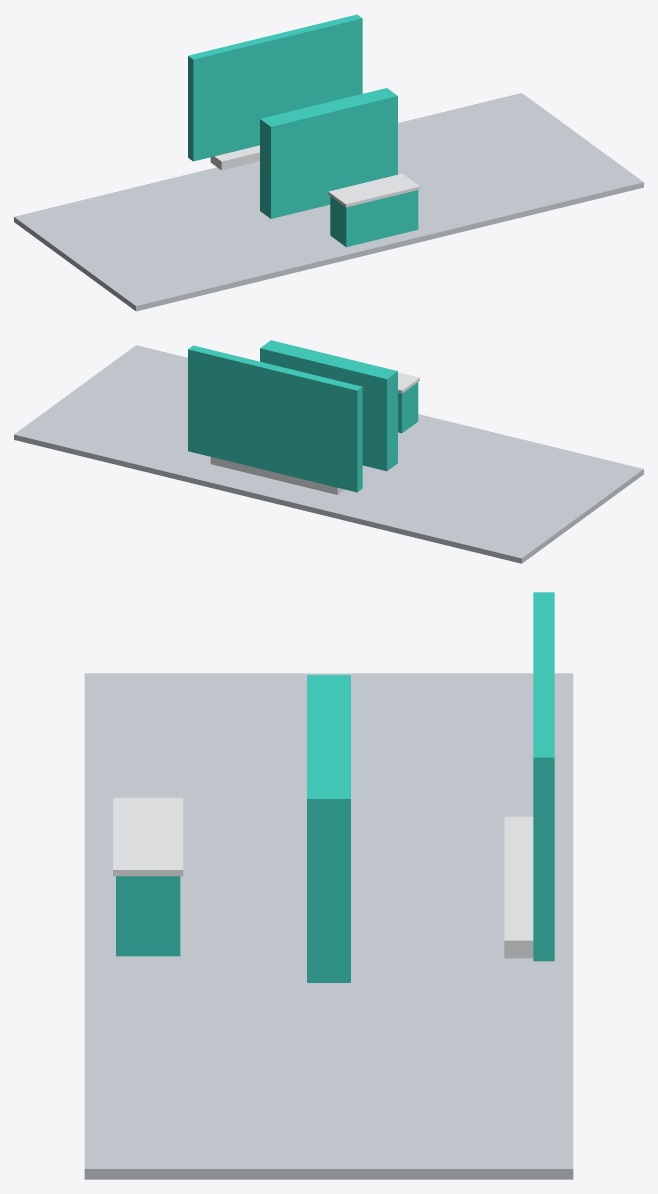
3 views of the same model, one above another, from view 1: azimuth 30°, elevation 25°; view 2: azimuth 150°, elevation 25°; view 3: azimuth 270°, elevation 25° (orthographic). The views are drawn at different scales.
Parts seen in each view (by area): view 1: Exhibition Booth Concept; view 2: Exhibition Booth Concept; view 3: Exhibition Booth Concept.
Boxes of the visible parts, x1,y1,x2,y2 form: Exhibition Booth Concept: (14,14,643,311); Exhibition Booth Concept: (14,340,643,563); Exhibition Booth Concept: (84,592,573,1179).
Size of the model in its own units: 12 by 2.9 by 5.
